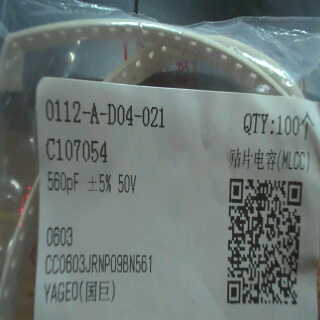560pF: (43, 167, 83, 202)
